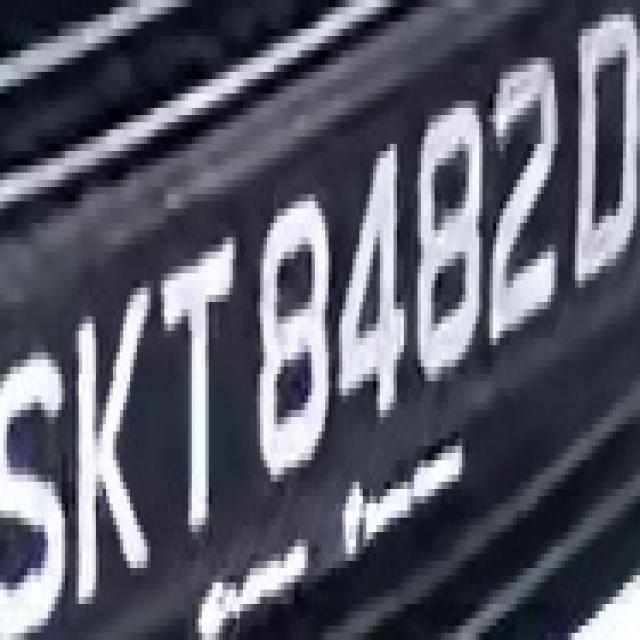2: (486, 58, 578, 338)
4: (322, 137, 407, 460)
8: (243, 187, 332, 475), (408, 108, 490, 410)
D: (3, 0, 3, 3)
K: (72, 259, 157, 618)
S: (0, 323, 68, 640)
T: (158, 216, 236, 568)
